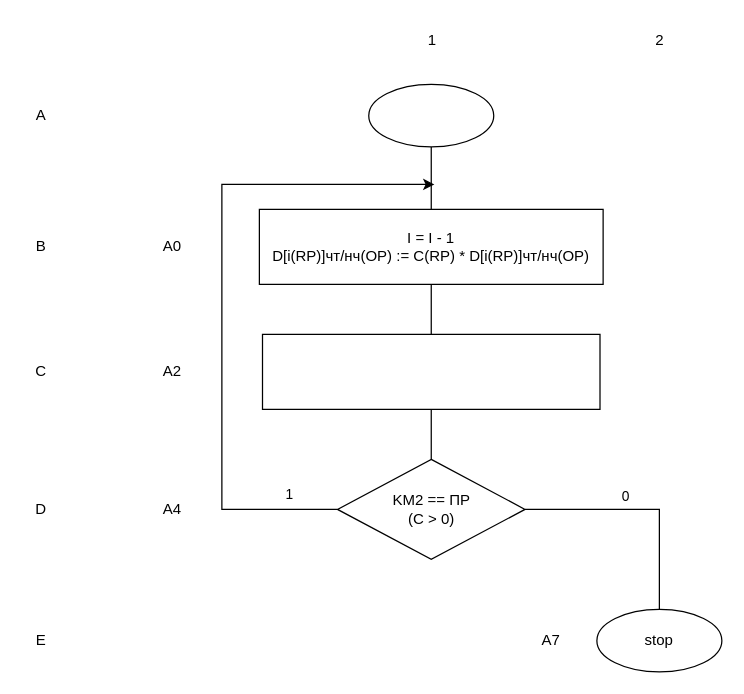
This 744x694 diagram has some shape labels left out. The shapes that lost their labels are listed below. From the top down, each one's centre as x and y in pixels, then its label:
At [431,115]: "begin".
At [430,371]: "J = J - 1 C(RP) := - C(RP) + D[j(RP)]чт/нч(OP)".
